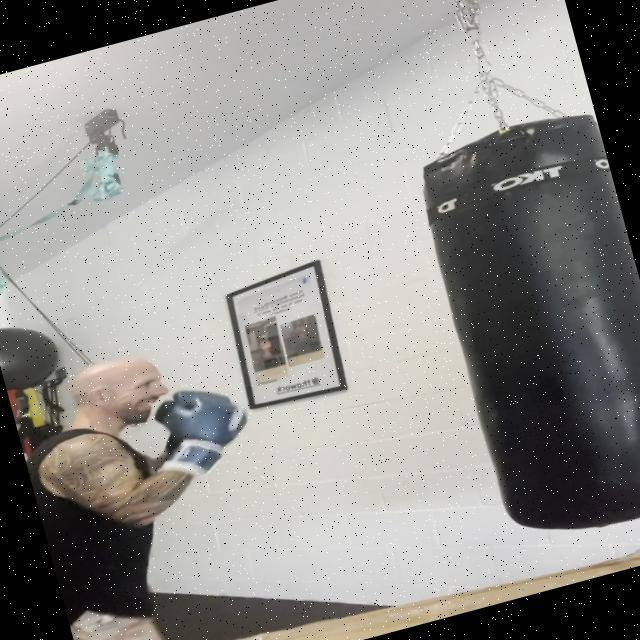bag: (398, 109, 640, 552)
